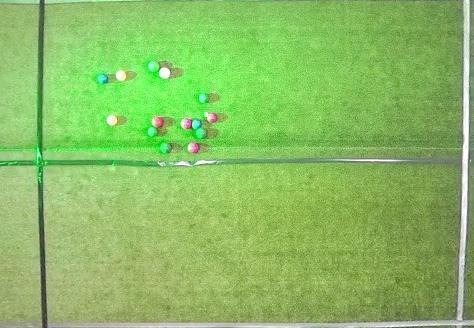blue: (98, 73, 108, 84), (192, 119, 201, 129)
green: (161, 142, 172, 153), (148, 61, 159, 72), (196, 128, 207, 138), (148, 127, 158, 136), (199, 94, 208, 103)
red: (152, 116, 164, 128), (159, 67, 170, 79), (188, 142, 199, 153), (181, 118, 191, 129), (207, 112, 217, 123)
vline: (1, 1, 50, 327), (454, 1, 473, 327)
white: (204, 112, 208, 117)
yellow: (116, 70, 126, 81), (106, 115, 117, 125)
